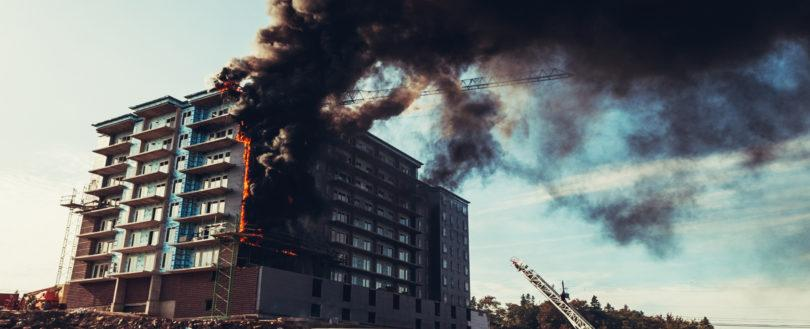smoke: (329, 0, 804, 91), (239, 44, 324, 251)
